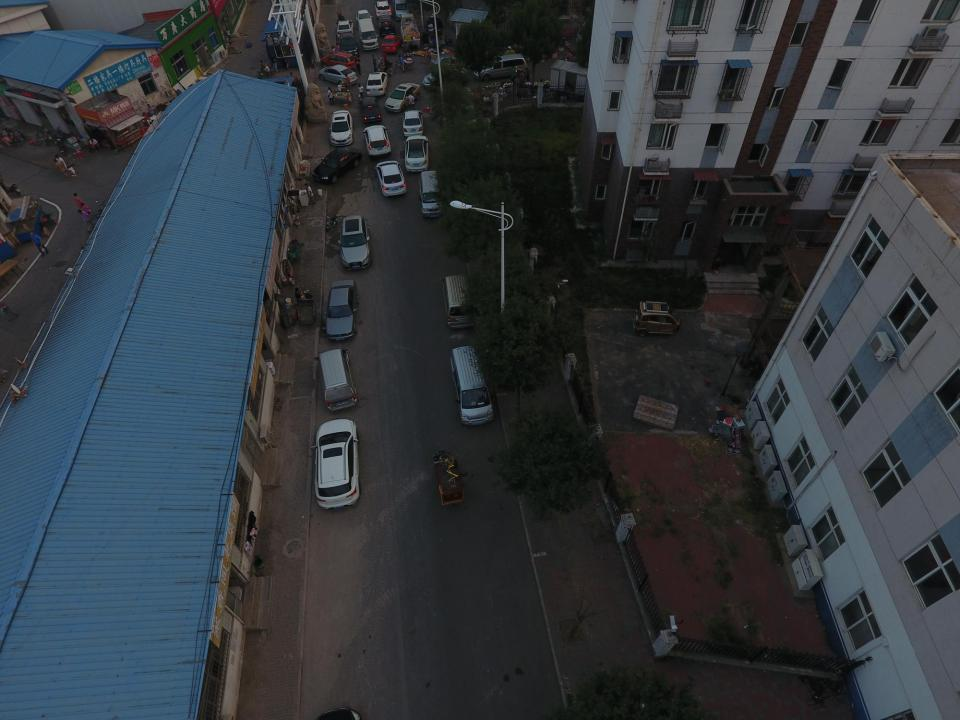car: (311, 418, 361, 509), (324, 279, 359, 339), (312, 146, 362, 184), (337, 216, 371, 271), (375, 161, 408, 197), (383, 83, 421, 113), (403, 135, 430, 173), (329, 110, 354, 146), (362, 125, 391, 155), (319, 64, 358, 85), (422, 70, 467, 88), (320, 52, 358, 70), (430, 53, 469, 70), (401, 110, 425, 136), (359, 96, 382, 122), (365, 71, 388, 96), (338, 32, 360, 56), (382, 34, 402, 53), (336, 19, 354, 38), (378, 15, 396, 32), (375, 1, 393, 18), (356, 10, 373, 21)
van: (450, 347, 494, 426), (314, 348, 358, 411), (441, 275, 471, 332), (473, 53, 527, 80), (416, 171, 445, 218), (358, 19, 379, 49)
